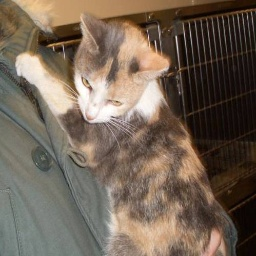cat: (12, 11, 238, 256)
